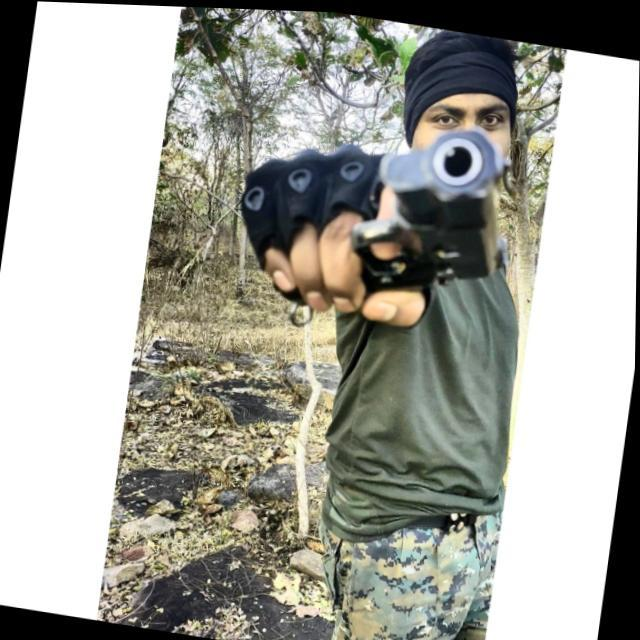weapon: (256, 89, 533, 358)
